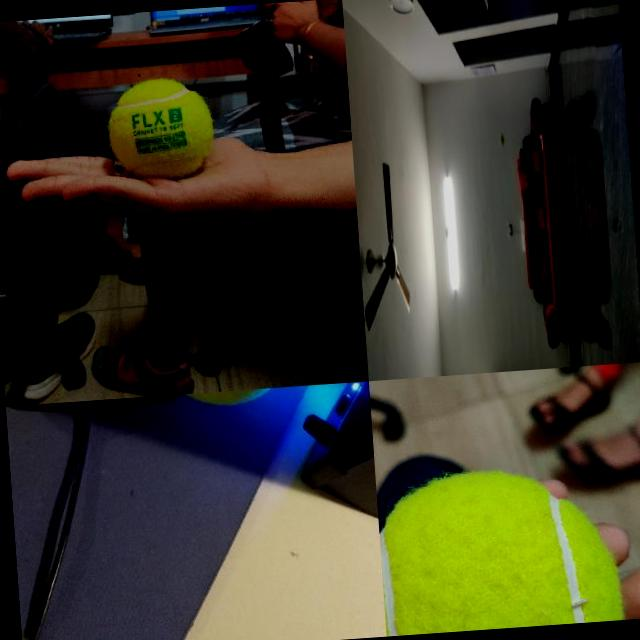Tennis Ball: (376, 464, 622, 635), (106, 75, 215, 178), (498, 133, 504, 145)
